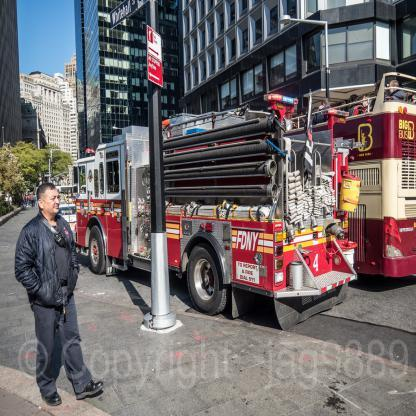fire-truck: (55, 84, 391, 351)
